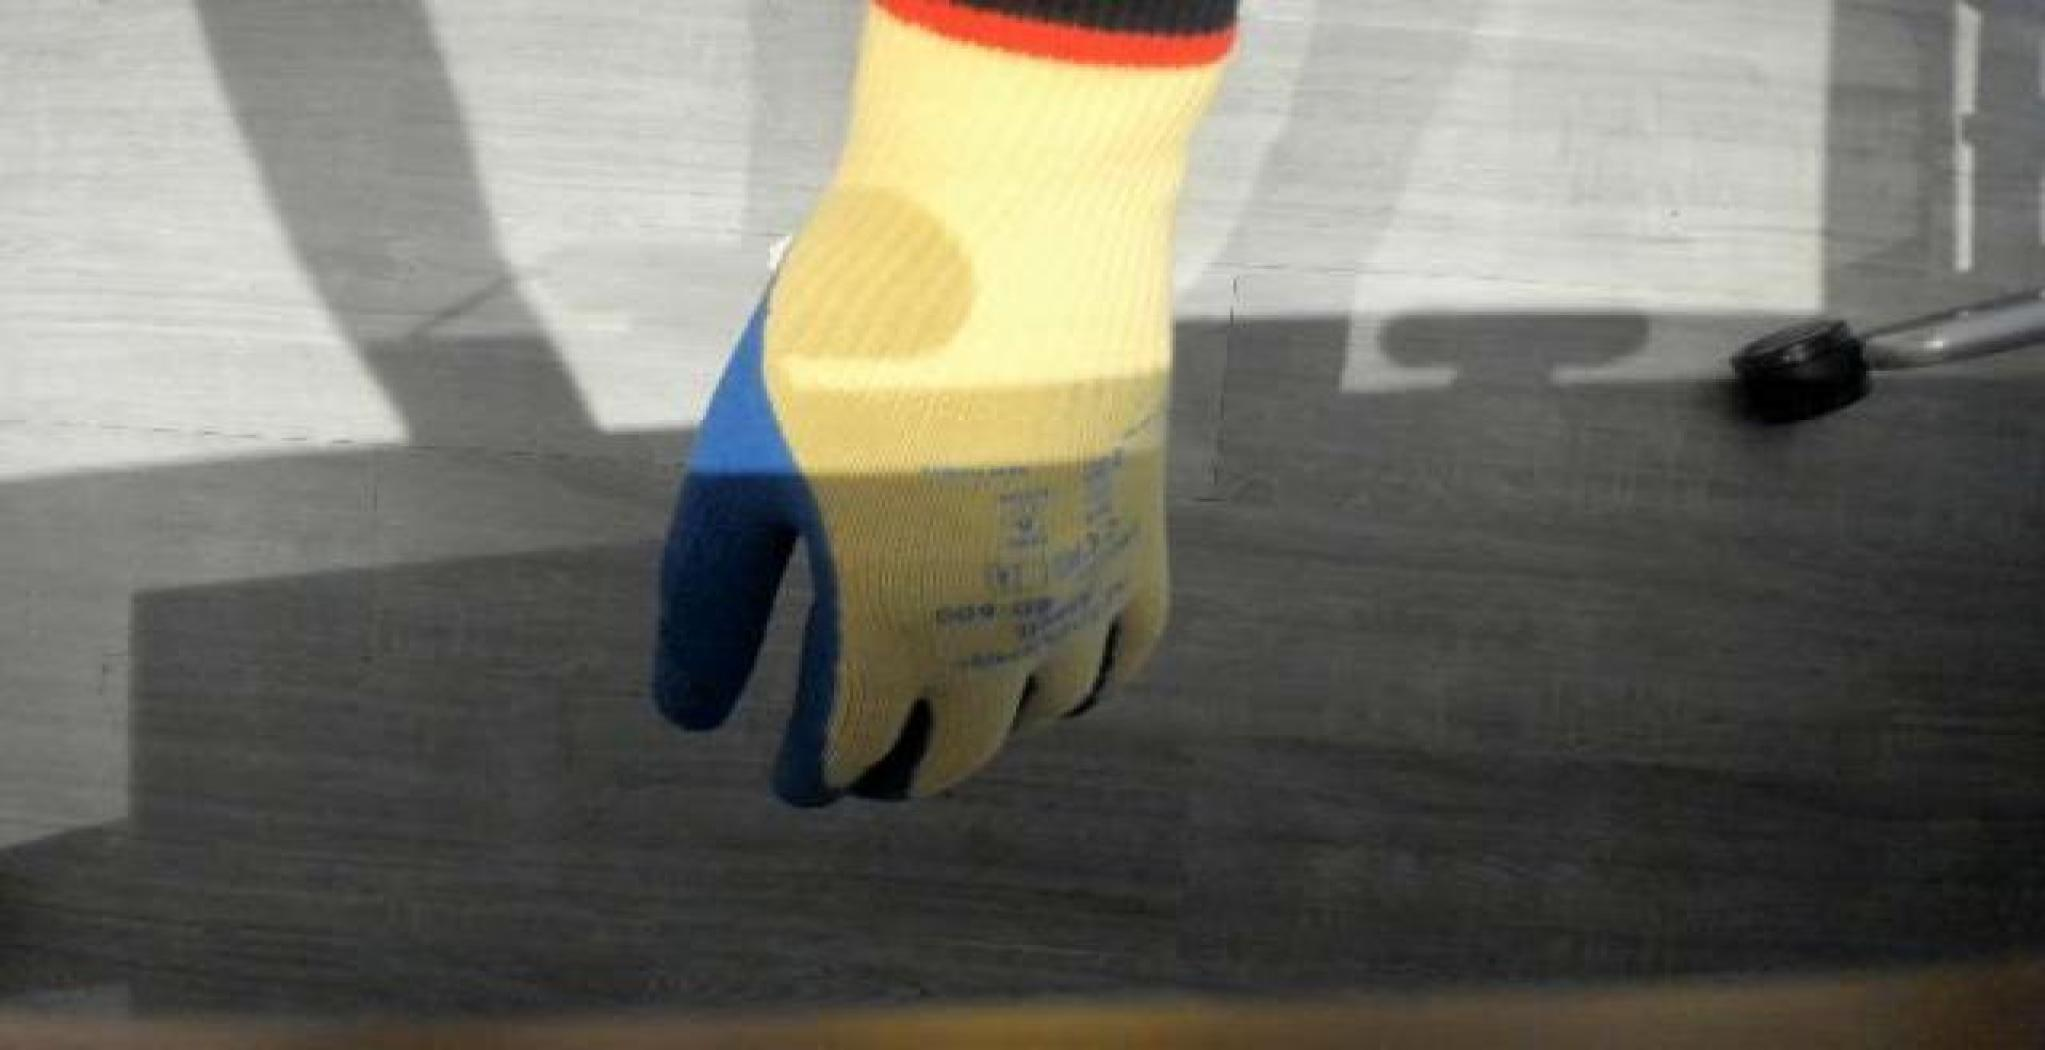gloved: (696, 0, 1381, 802)
